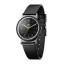watch: (14, 14, 43, 45)
